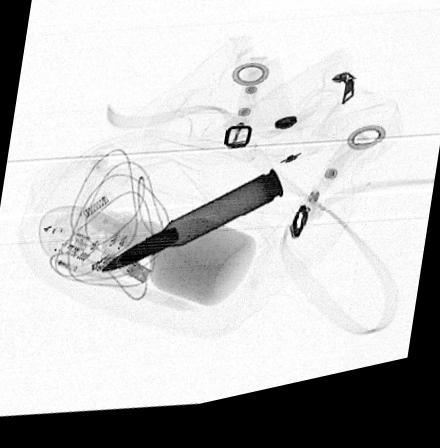Bullet: (100, 180, 284, 277)
